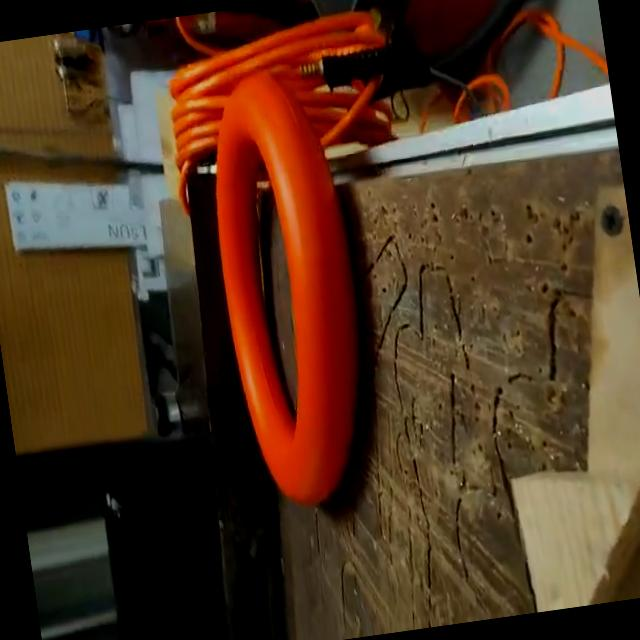note: (195, 68, 384, 518)
